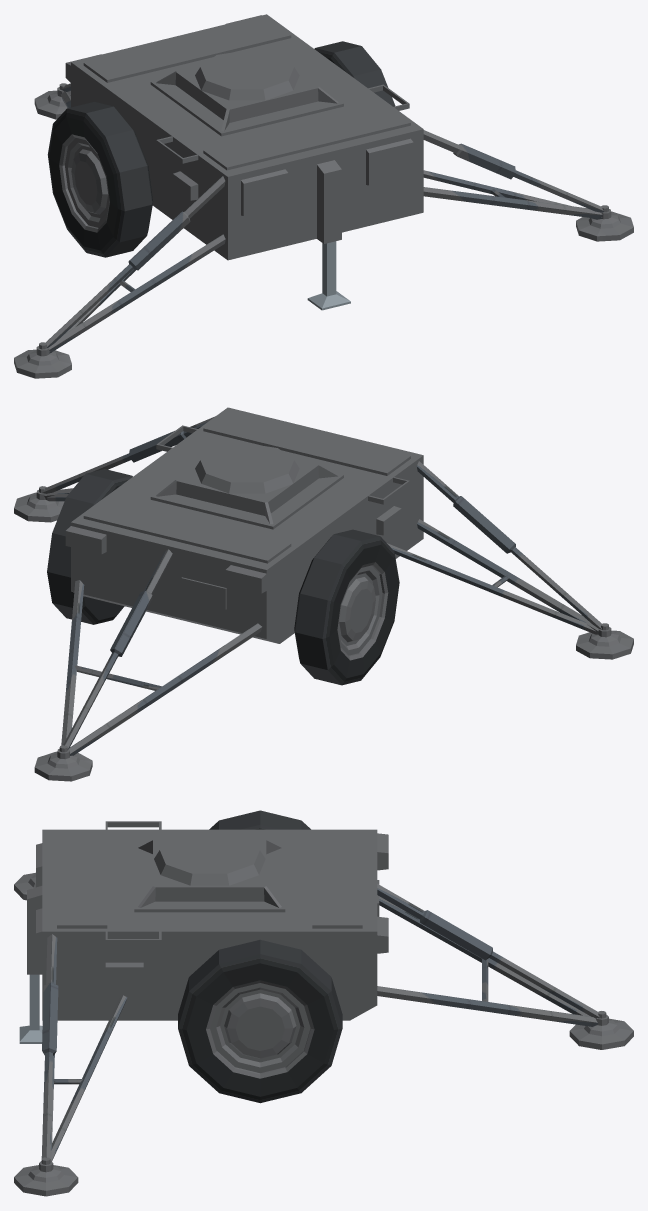
The model's file is SM_Prop_Missle_Launcher_02.glb.
3 views of the same model, one above another, from view 1: azimuth 30°, elevation 25°; view 2: azimuth 150°, elevation 25°; view 3: azimuth 270°, elevation 25° (orthographic). The views are drawn at different scales.
Parts seen in each view (by area): view 1: SM_Prop_Missle_Launcher_02; view 2: SM_Prop_Missle_Launcher_02; view 3: SM_Prop_Missle_Launcher_02.
Part boxes in pixels (bbox=[...]): SM_Prop_Missle_Launcher_02: bbox=[14, 14, 633, 378]; SM_Prop_Missle_Launcher_02: bbox=[14, 407, 633, 781]; SM_Prop_Missle_Launcher_02: bbox=[14, 810, 633, 1196].
Size of the model in its own units: 4.92 by 1.31 by 4.03.
1 material, 1 textured.
